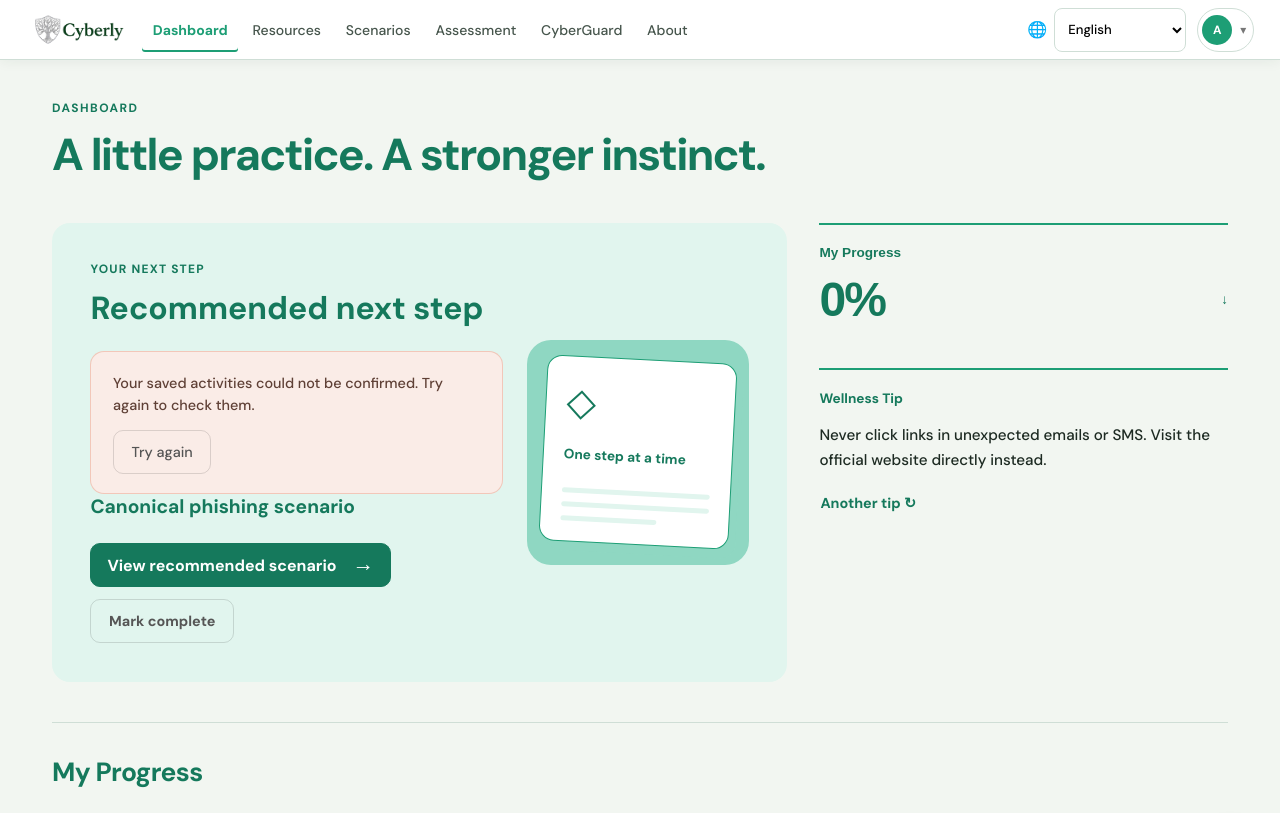
Scenario: Dashboard integrated Progress › navigates to the exact authoritative Scenario and preserves Library recommendations
Click the button "View recommended scenario →" at (241, 565), box [90, 543, 391, 587]
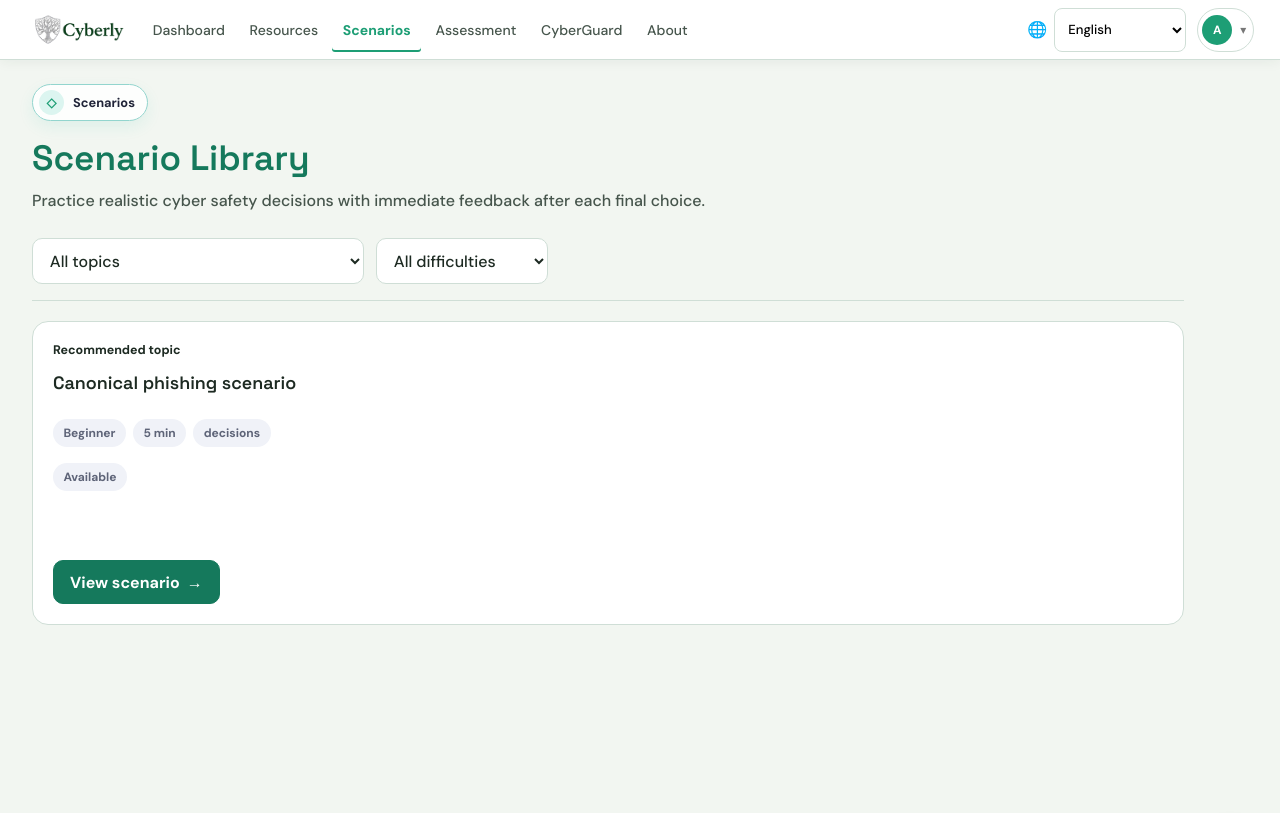
Now the element with class "highlighted" shows "Canonical phishing scenario", box [53, 371, 296, 394]
